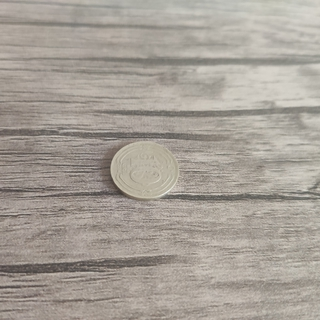10KURUS: (107, 138, 181, 201)
